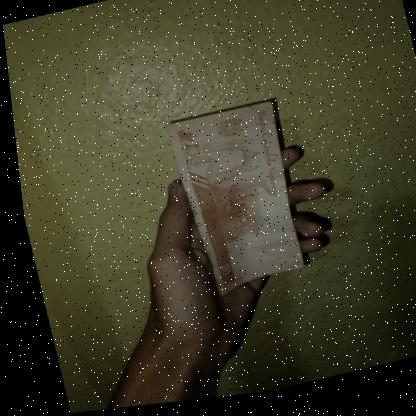twenty-back-vef: (161, 103, 306, 306)
